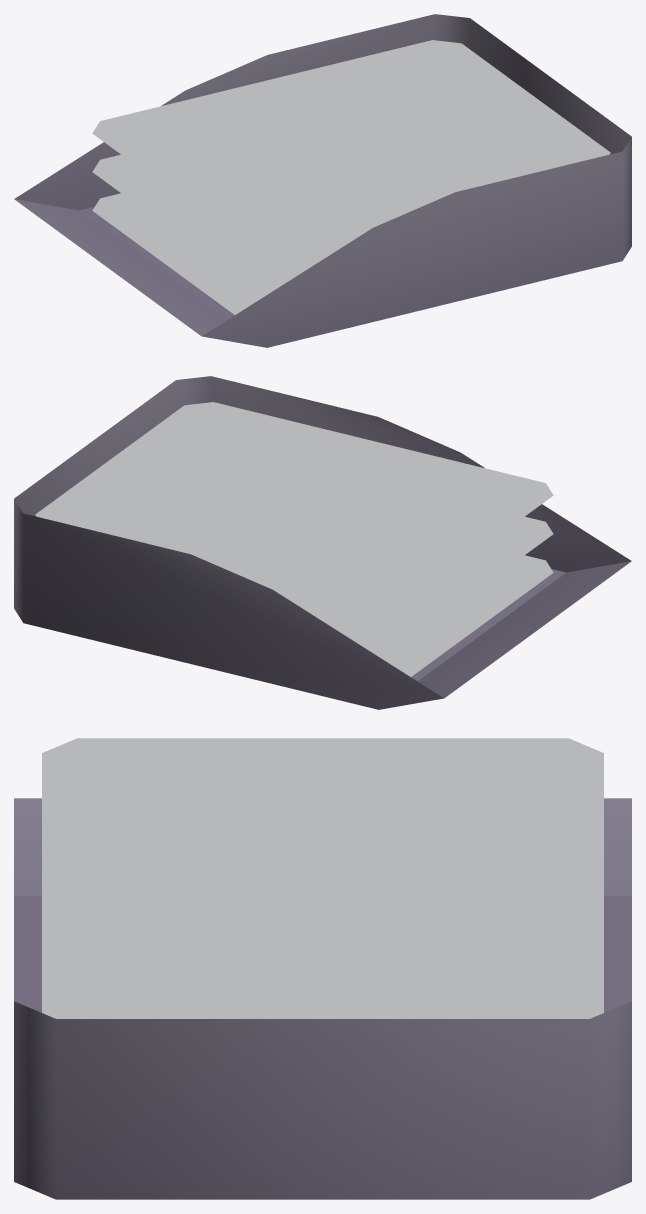
The model's file is paper-sorter_0.glb.
3 renders of one model, top to bottom at view 1: azimuth 30°, elevation 25°; view 2: azimuth 150°, elevation 25°; view 3: azimuth 270°, elevation 25°, orthographic. The views are drawn at different scales.
Visible parts, largest first — view 1: paper-sorter; view 2: paper-sorter; view 3: paper-sorter.
Boxes of the visible parts, bbox=[...] form: paper-sorter: bbox=[14, 14, 631, 347]; paper-sorter: bbox=[14, 376, 631, 709]; paper-sorter: bbox=[14, 738, 631, 1199].
Size of the model in its own units: 0.3 by 0.071 by 0.22.
